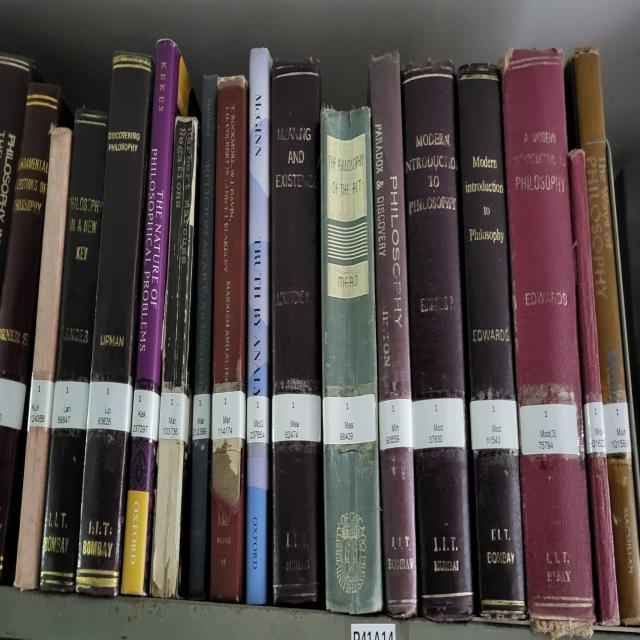Book: (502, 51, 595, 630), (565, 49, 640, 625), (75, 51, 154, 595), (402, 65, 474, 620), (458, 65, 526, 617), (40, 108, 108, 593), (321, 106, 382, 614), (271, 60, 324, 606), (369, 51, 418, 617), (15, 127, 72, 590), (569, 149, 620, 625), (151, 116, 199, 598), (210, 76, 248, 601), (136, 41, 191, 387), (189, 76, 218, 598), (246, 49, 271, 603)
Label: (520, 403, 579, 455), (412, 398, 465, 449), (322, 395, 376, 444), (272, 392, 321, 444), (470, 400, 519, 449), (88, 381, 132, 433), (51, 381, 89, 430), (212, 390, 246, 441), (379, 398, 412, 449), (159, 392, 190, 444), (131, 387, 160, 441), (602, 403, 631, 455), (28, 379, 54, 430), (584, 400, 606, 455), (246, 395, 269, 444), (192, 392, 211, 441)
